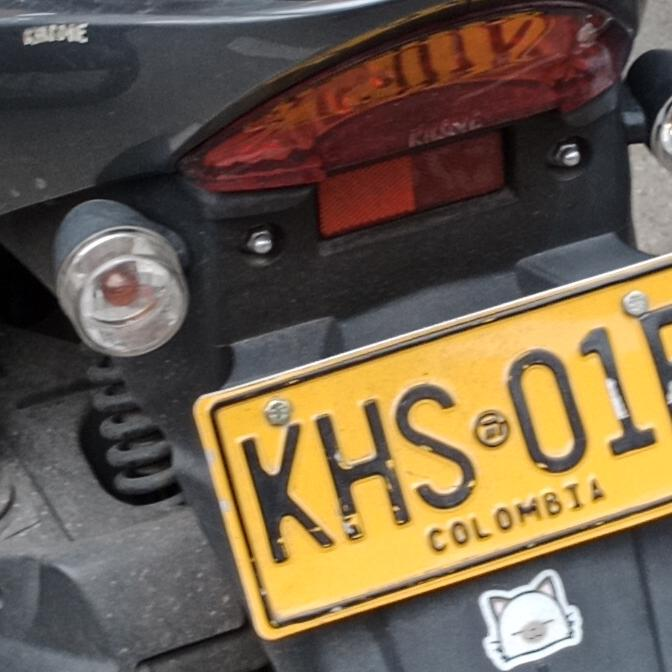plates: (191, 244, 672, 653)
